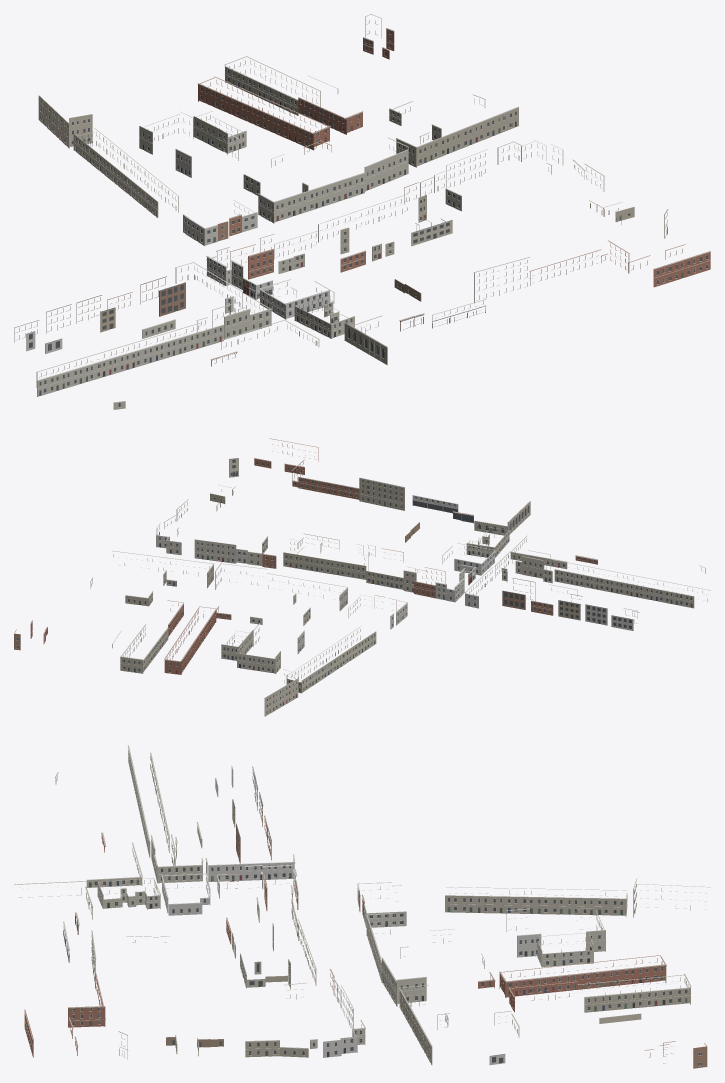
3 renders of one model, top to bottom at view 1: azimuth 30°, elevation 25°; view 2: azimuth 150°, elevation 25°; view 3: azimuth 270°, elevation 25°, orthographic. The views are drawn at different scales.
Visible parts, largest first — view 1: f:way/137027736, f:way/171900560, f:way/158062628, f:way/171900569, f:way/158062015, f:way/158062633, f:way/158062012, f:way/972910239, f:way/972910237, f:way/171900574, f:way/137027729, f:way/171900562 (+8 smaller); view 2: f:way/137027736, f:way/972910239, f:way/158062015, f:way/972910238, f:way/158062628, f:way/972913153, f:way/158062633, f:way/171900576, f:way/137027729, f:way/158062012, f:way/158062016, f:way/93900094 (+8 smaller); view 3: f:way/158062015, f:way/158062628, f:way/158062633, f:way/171900560, f:way/137027737, f:way/137027729, f:way/171900562, f:way/137027736, f:way/158062008, f:way/972913153, f:way/171900557, f:way/171900569 (+7 smaller).
Part boxes in pixels (x1,y1,x2,y2): f:way/137027736: (36, 317, 223, 396); f:way/171900560: (258, 137, 408, 223); f:way/158062628: (198, 76, 330, 150); f:way/171900569: (396, 106, 518, 167); f:way/158062015: (73, 128, 178, 217); f:way/158062633: (224, 56, 321, 115); f:way/158062012: (38, 95, 92, 148); f:way/972910239: (274, 193, 431, 269); f:way/972910237: (628, 244, 710, 287); f:way/171900574: (259, 279, 334, 319); f:way/137027729: (212, 294, 271, 339); f:way/171900562: (294, 295, 354, 338); f:way/137027736: (543, 559, 710, 608); f:way/972910239: (283, 539, 415, 589); f:way/158062015: (286, 626, 376, 693); f:way/972910238: (359, 477, 404, 510); f:way/158062628: (164, 606, 216, 674); f:way/972913153: (292, 459, 359, 499); f:way/158062633: (120, 624, 168, 673); f:way/171900576: (194, 539, 236, 563); f:way/137027729: (495, 550, 550, 581); f:way/158062012: (264, 669, 298, 716); f:way/158062016: (236, 645, 280, 673); f:way/93900094: (474, 501, 530, 535); f:way/158062015: (445, 887, 627, 916); f:way/158062628: (499, 955, 666, 997); f:way/158062633: (578, 973, 691, 1012); f:way/171900560: (366, 913, 426, 1006); f:way/137027737: (205, 854, 295, 881); f:way/137027729: (150, 834, 203, 883); f:way/171900562: (97, 877, 160, 909); f:way/137027736: (127, 745, 177, 858); f:way/158062008: (537, 932, 593, 967); f:way/972913153: (68, 972, 105, 1027); f:way/171900557: (245, 1040, 308, 1057); f:way/171900569: (399, 985, 449, 1064).
Size of the model in its own units: 268 by 17.41 by 255.
